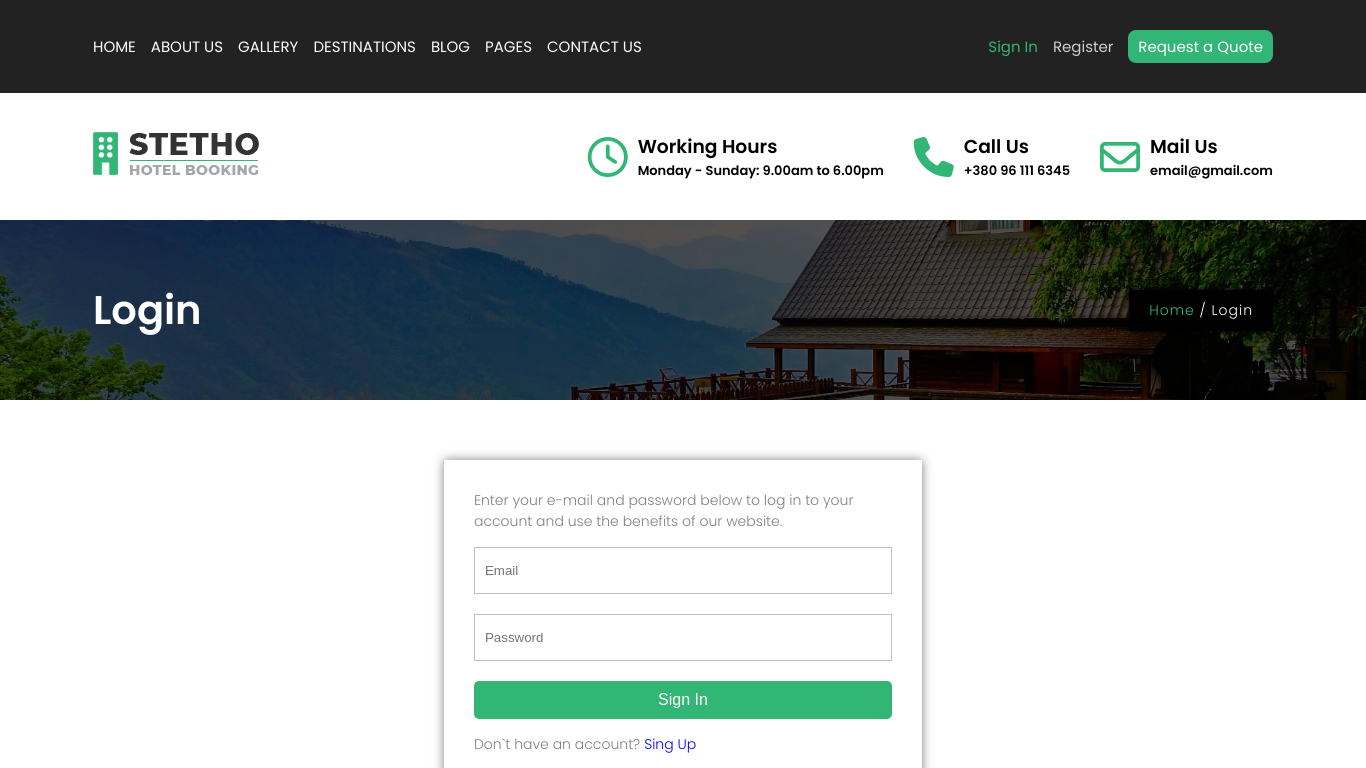
Test case: Login › should input valid email and password and submit form
The width and height of the screenshot is (1366, 768).
Type "andrew@gmail.com" into the field with placeholder "Email". click: coordinates (683, 570)
box: [474,547,892,594]
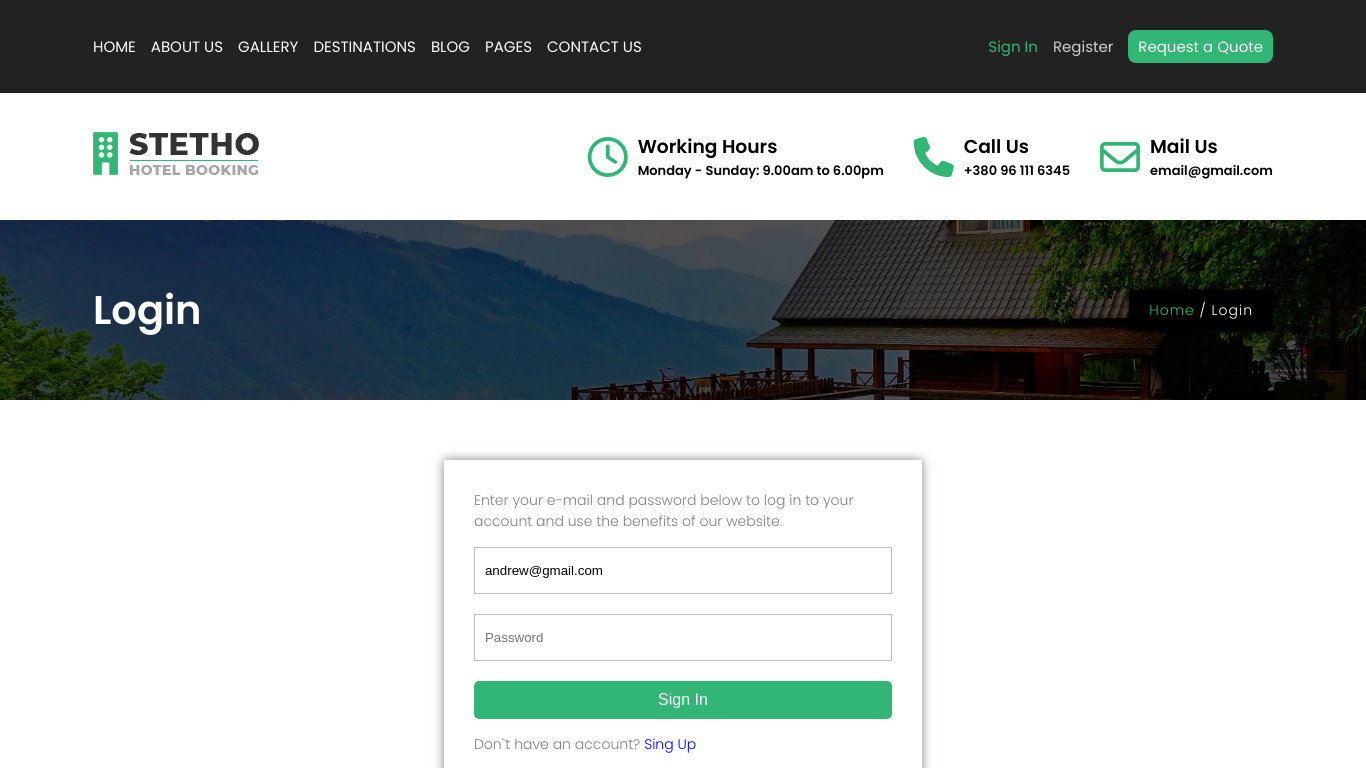
Type "bombamoscow1!" into the password field with placeholder "Password". click: coordinates (683, 638)
box: [474,614,892,661]
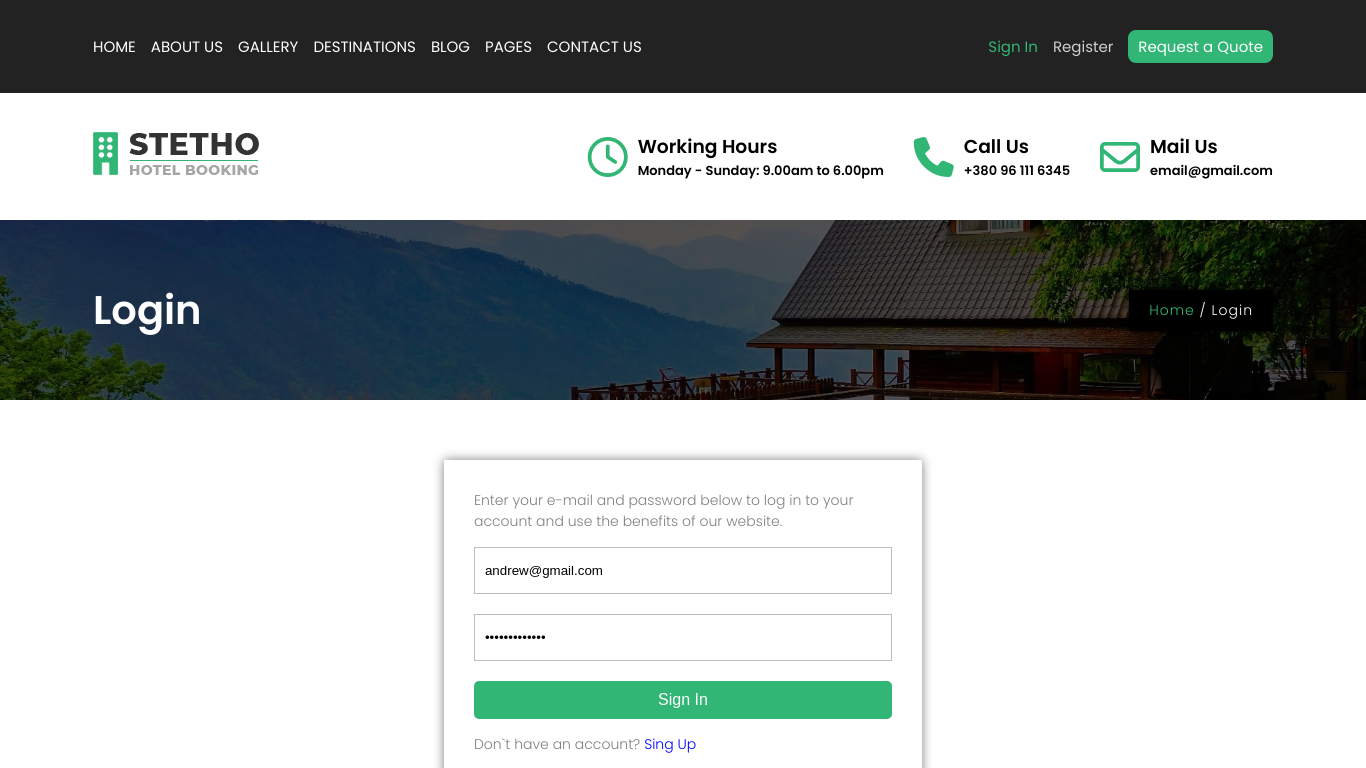
Click the button "Sign In". click: coordinates (683, 700)
box: [474,681,892,719]
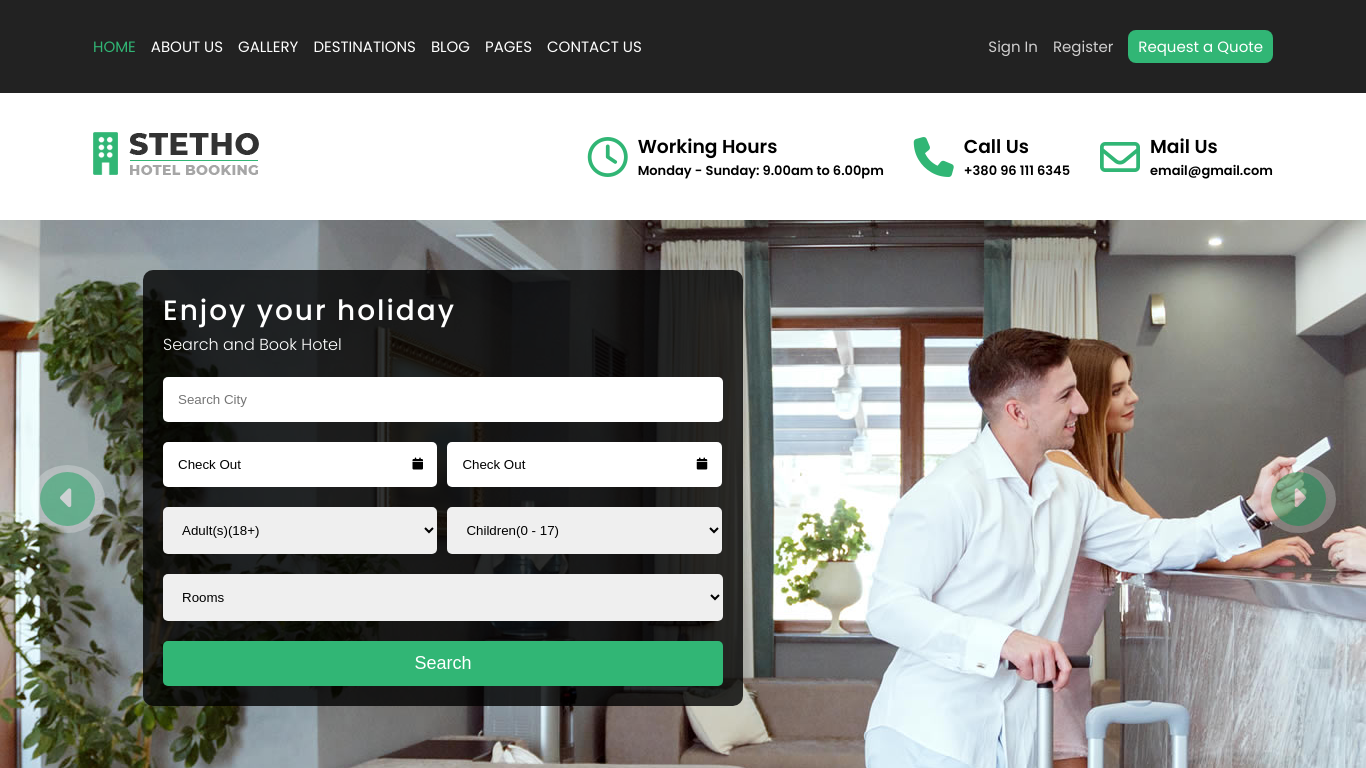
Now the heading "Enjoy your holiday" is shown, box [163,291,456,330]
